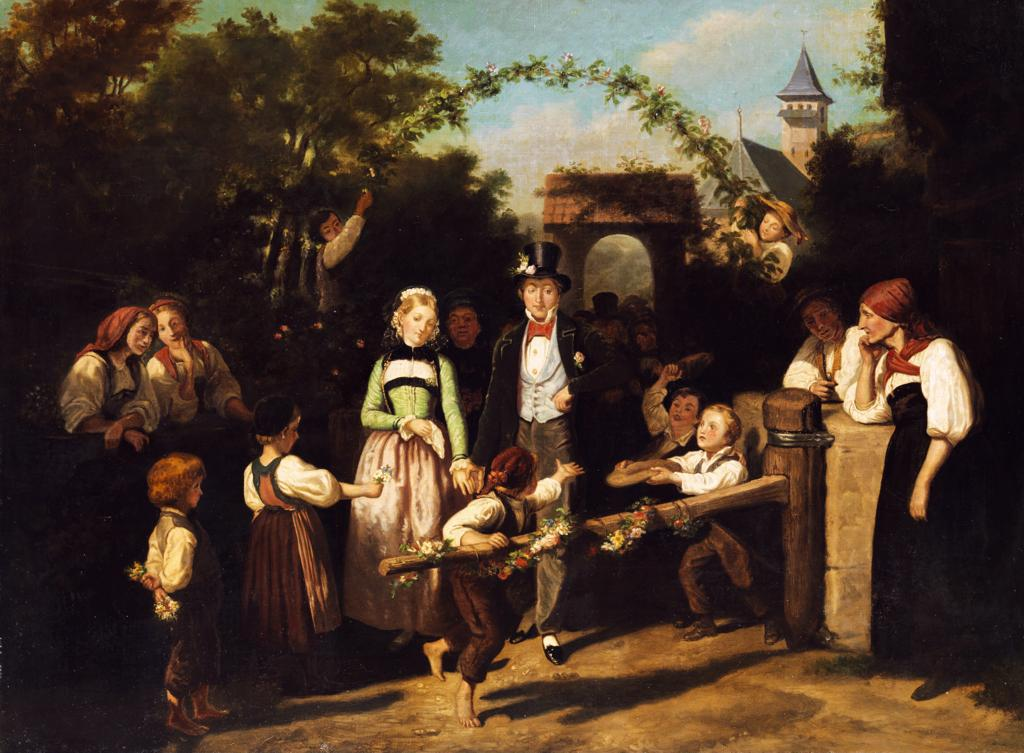face: (523, 272, 558, 319), (802, 299, 838, 341), (859, 302, 892, 343), (404, 305, 437, 343), (156, 310, 189, 347), (127, 319, 158, 356), (450, 303, 478, 343), (697, 411, 728, 447), (758, 249, 788, 284), (670, 394, 700, 427), (321, 214, 347, 248), (281, 415, 303, 454), (184, 474, 204, 508), (597, 319, 622, 346), (760, 215, 785, 240), (638, 324, 658, 352), (734, 199, 749, 223), (699, 118, 709, 129)
